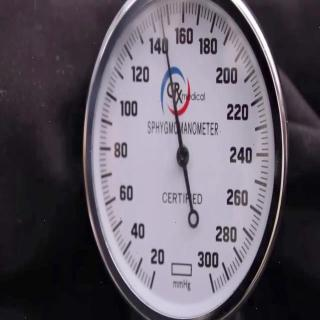gauge: (78, 0, 294, 320), (203, 270, 221, 300), (145, 263, 162, 294), (174, 145, 190, 167), (160, 16, 166, 27)
